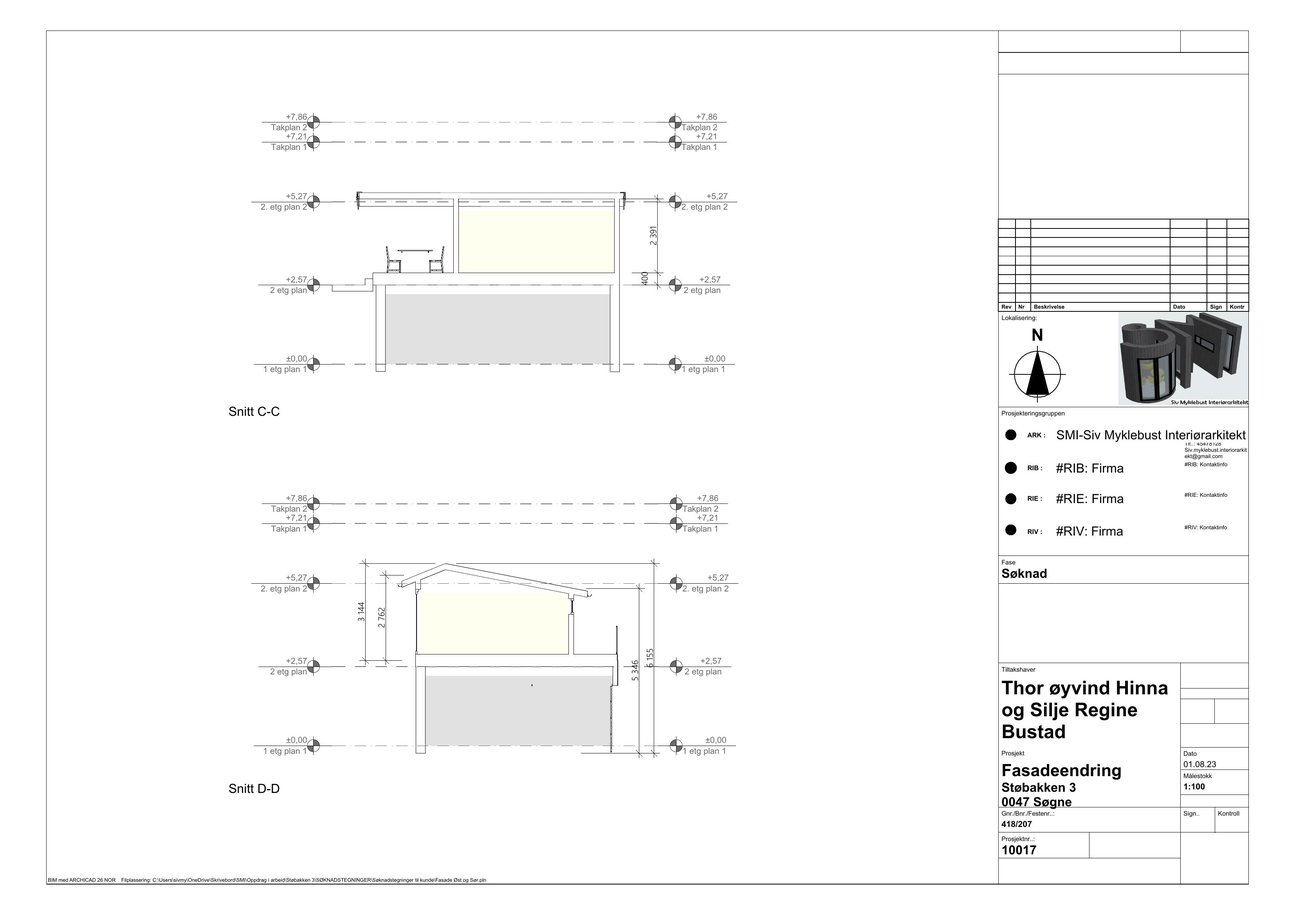snitt: (271, 492, 730, 769), (265, 110, 736, 379)
